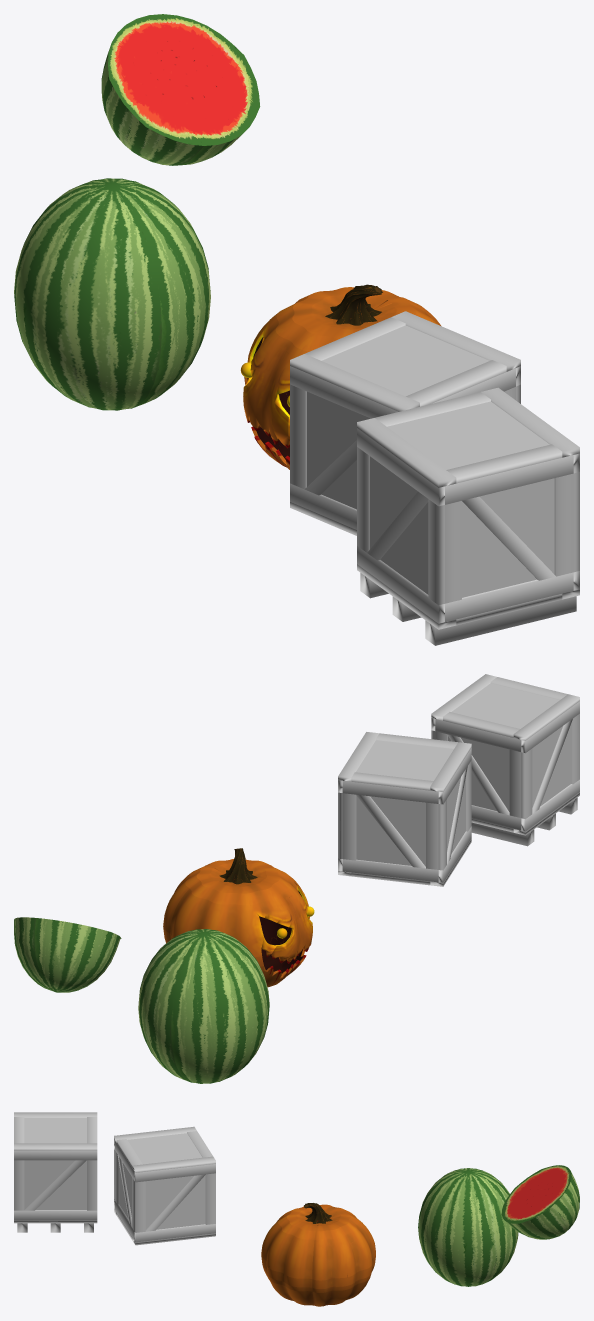
3 views of the same model, one above another, from view 1: azimuth 30°, elevation 25°; view 2: azimuth 150°, elevation 25°; view 3: azimuth 270°, elevation 25° (orthographic). The views are drawn at different scales.
Parts seen in each view (by area): view 1: crateFull_01_lod0, Sphere, crateBare_01_lod0, Sphere.001, pSphere3; view 2: crateBare_01_lod0, crateFull_01_lod0, Sphere, pSphere3, Sphere.001; view 3: crateBare_01_lod0, crateFull_01_lod0, pSphere3, Sphere, Sphere.001.
Part boxes in pixels (box(x1,y1,x2,y2)): crateFull_01_lod0: box(357, 387, 579, 645); Sphere: box(14, 178, 210, 410); crateBare_01_lod0: box(290, 311, 520, 535); Sphere.001: box(101, 14, 260, 165); pSphere3: box(240, 284, 440, 469); crateBare_01_lod0: box(338, 732, 471, 886); crateFull_01_lod0: box(431, 674, 579, 846); Sphere: box(138, 929, 269, 1083); pSphere3: box(163, 848, 314, 987); Sphere.001: box(14, 917, 121, 992); crateBare_01_lod0: box(114, 1126, 215, 1245); crateFull_01_lod0: box(14, 1112, 97, 1232); pSphere3: box(261, 1203, 375, 1306); Sphere: box(418, 1168, 518, 1286); Sphere.001: box(501, 1165, 579, 1239).
Bounding box in the file's own units: 139 × 114 × 407.
